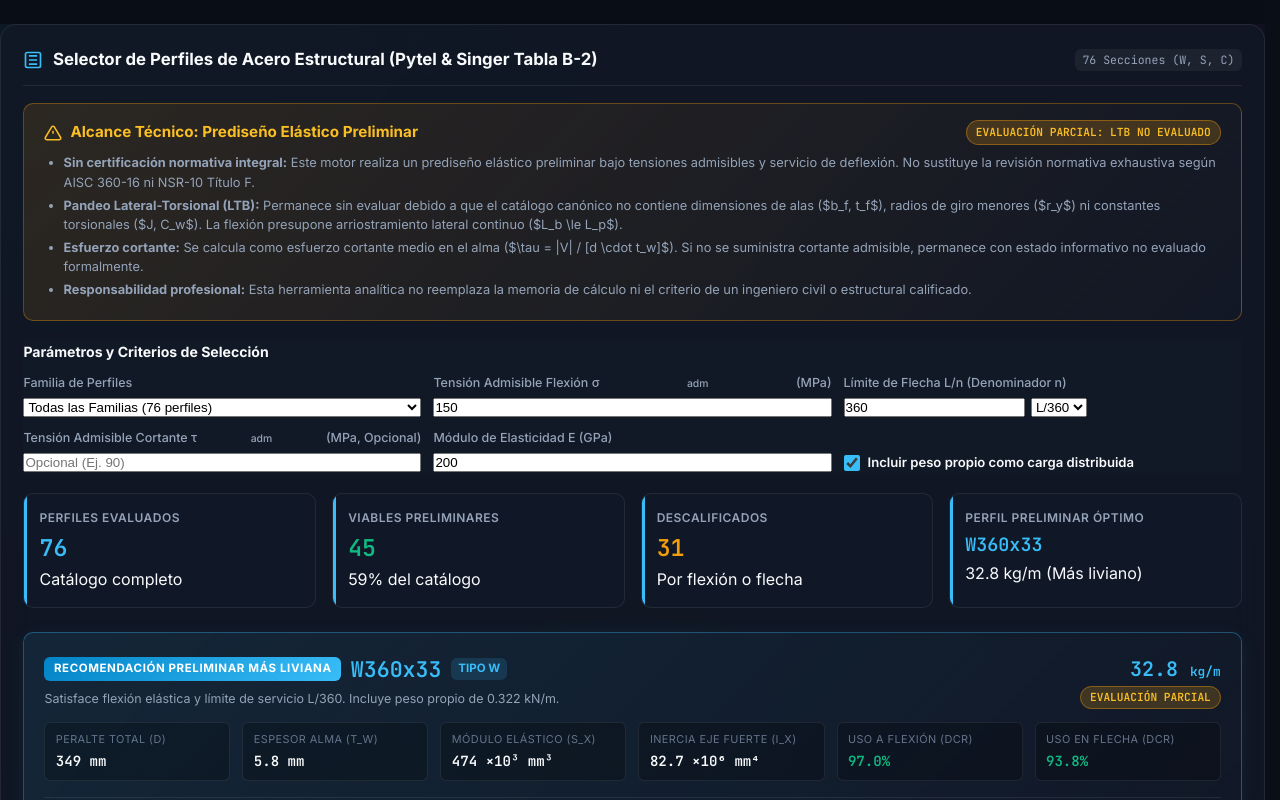
Scenario: OptiSteel 2.0 — SteelProfileSelector Component Integration Tests › 2. Filtrado por familia de perfil (ALL, W, S, C)
This screenshot has width=1280, height=800.
Note: Filtrar a familia W
Select "Familia W — Patín Ancho (46 perfiles)" in the dropdown labelled "Familia de Perfiles" at [222, 408], box [23, 398, 422, 417]
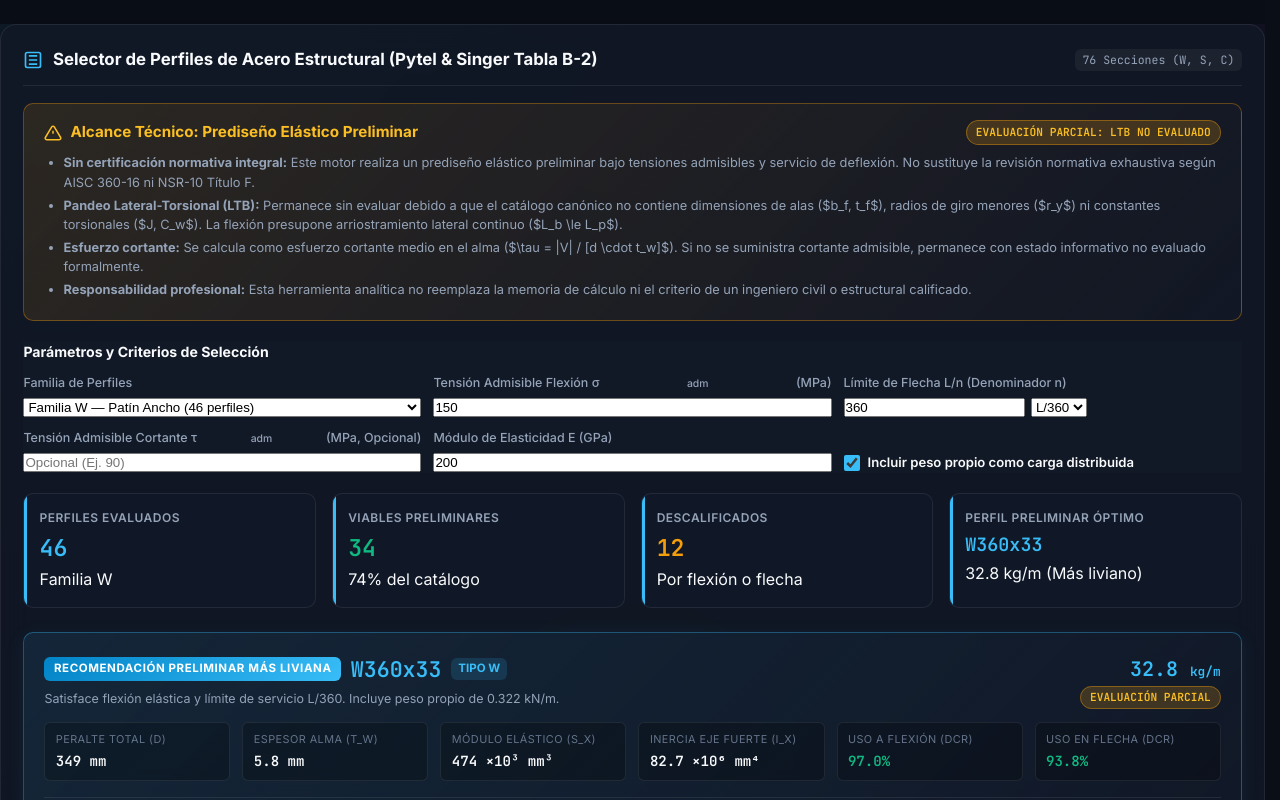
Result: the text "46" is shown at [40, 532, 67, 563]
Note: Filtrar a familia S
Select "Familia S — Estándar Americano I (16 perfiles)" in the dropdown labelled "Familia de Perfiles" at [222, 408], box [23, 398, 422, 417]
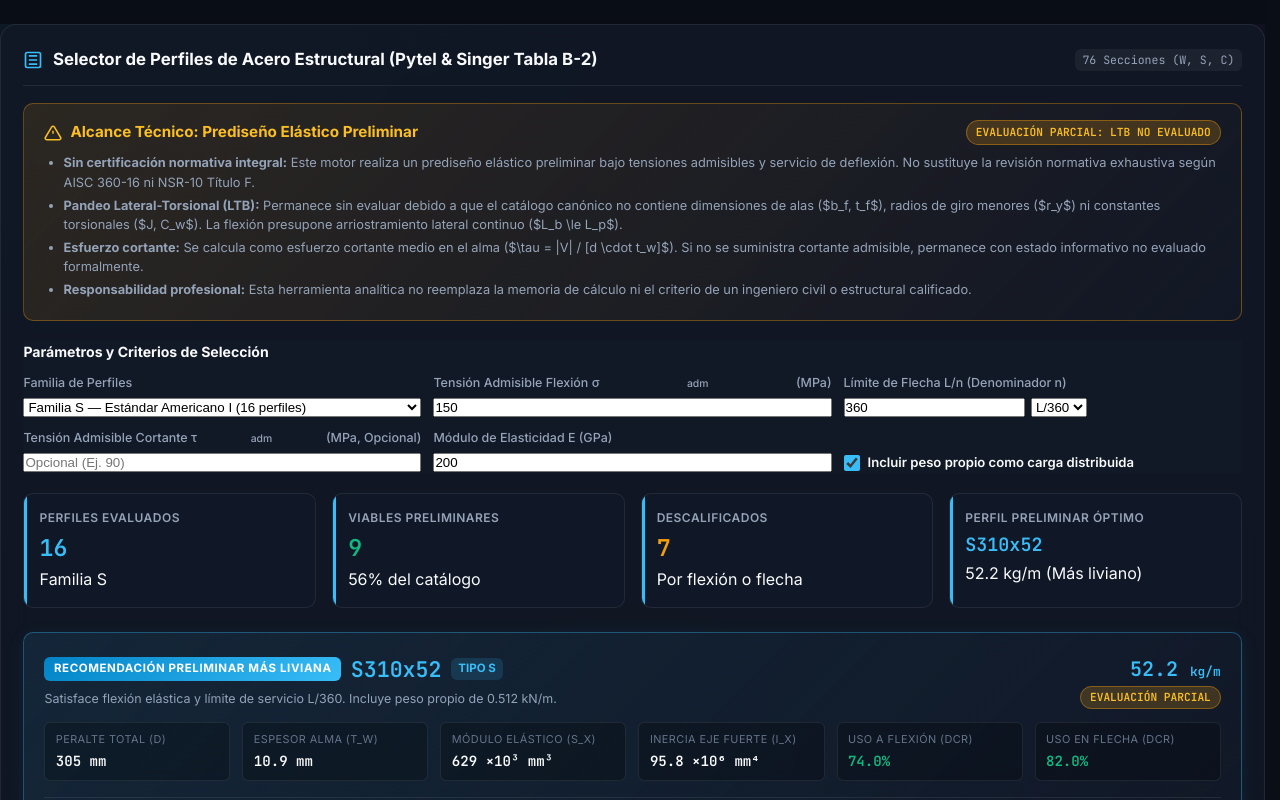
Result: the text "16" is shown at [40, 532, 67, 563]
Note: Filtrar a familia C
Select "Familia C — Canales Estándar (14 perfiles)" in the dropdown labelled "Familia de Perfiles" at [222, 408], box [23, 398, 422, 417]
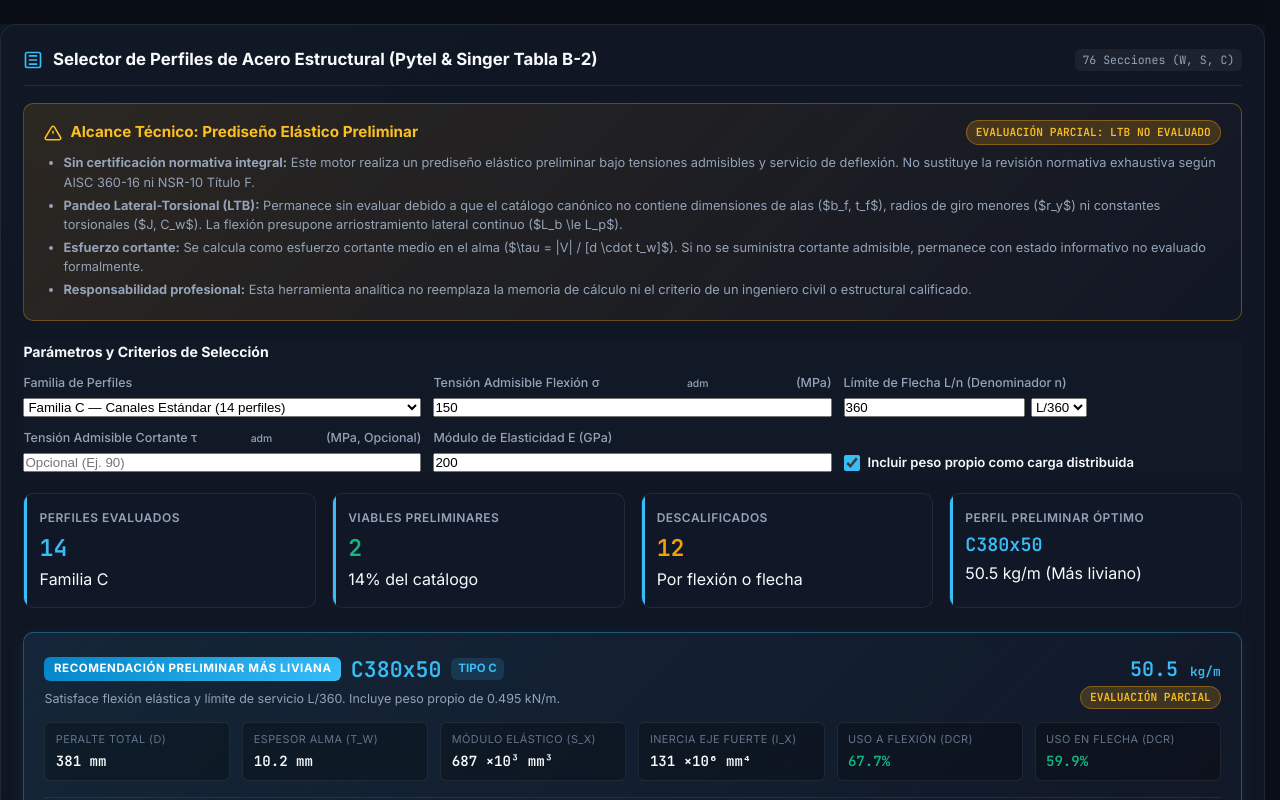
Result: the text "14" is shown at [40, 532, 67, 563]
Note: Regresar a todas las familias
Select "Todas las Familias (76 perfiles)" in the dropdown labelled "Familia de Perfiles" at [222, 408], box [23, 398, 422, 417]
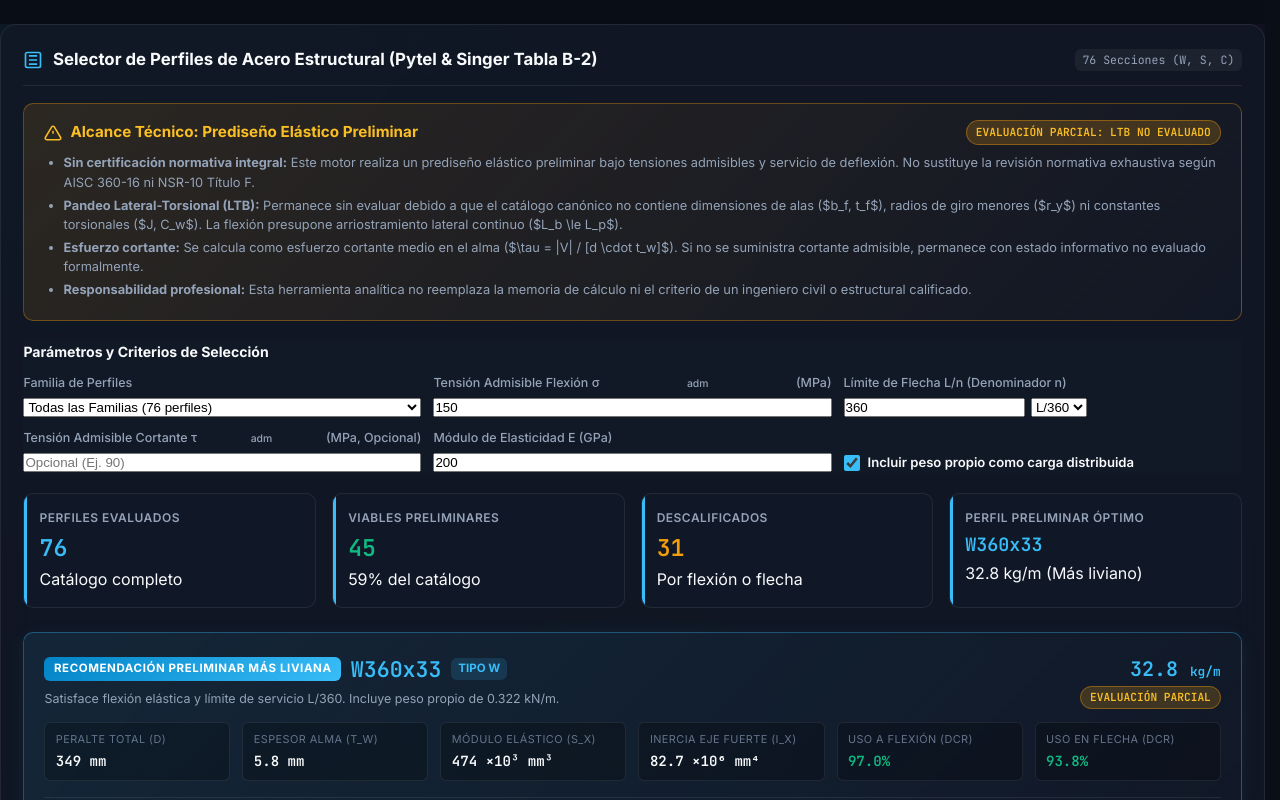
Result: the text "76" is shown at [40, 532, 67, 563]
